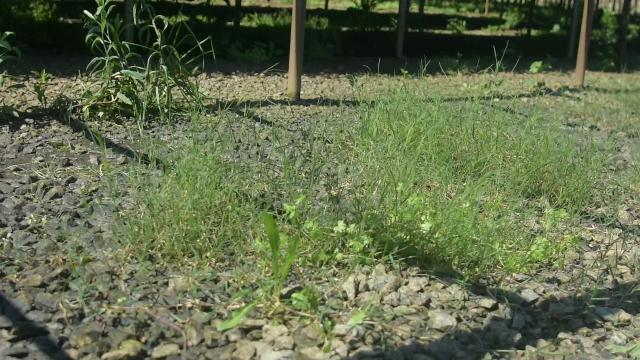MalezaMontesDelPlata: (346, 153, 550, 260), (105, 140, 264, 266), (341, 69, 507, 184), (213, 211, 340, 337), (501, 129, 617, 263), (133, 0, 226, 117), (74, 0, 144, 126), (0, 66, 73, 123)
